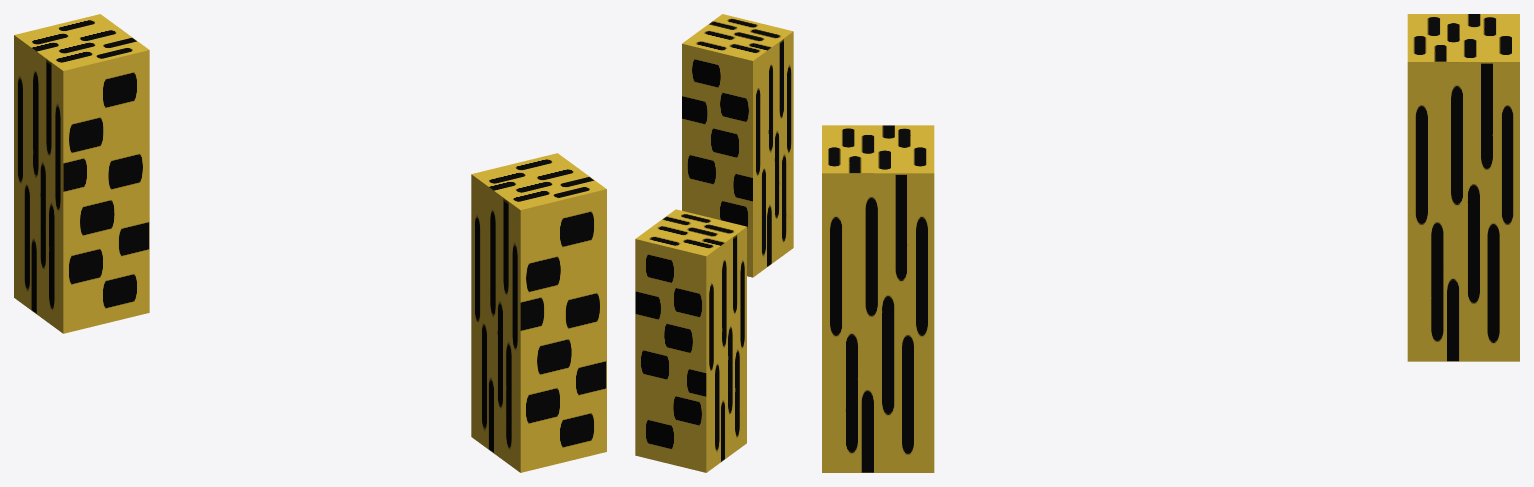
File: TigerL.FBX
The picture shows the model from 3 angles, left to right: view 1: azimuth 30°, elevation 25°; view 2: azimuth 150°, elevation 25°; view 3: azimuth 270°, elevation 25°; orthographic projection. The views are drawn at different scales.
Visible parts, largest first — view 1: RightBackLeg, LeftFrontLeg; view 2: RightBackLeg, LeftFrontLeg; view 3: RightBackLeg, LeftFrontLeg.
Boxes of the visible parts, x1=… form: RightBackLeg: x1=14, y1=14, x2=149, y2=333; LeftFrontLeg: x1=471, y1=153, x2=606, y2=472; RightBackLeg: x1=635, y1=209, x2=746, y2=472; LeftFrontLeg: x1=682, y1=14, x2=793, y2=277; RightBackLeg: x1=1407, y1=14, x2=1519, y2=361; LeftFrontLeg: x1=822, y1=125, x2=934, y2=472.
Bounding box in the file's own units: 0.9839 × 0.862 × 1.82.
1 material, 1 textured.
